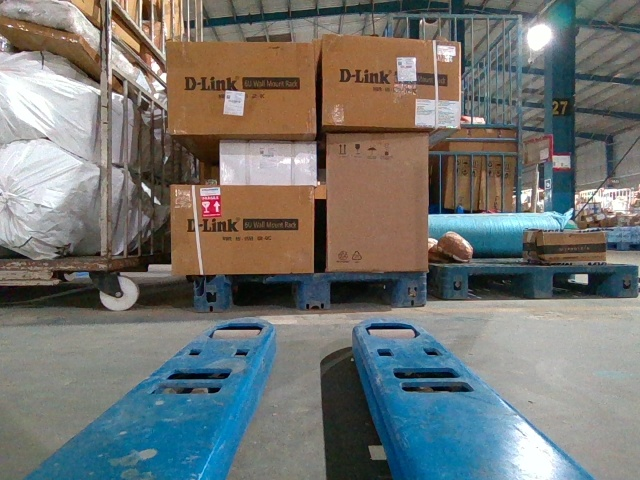block: (292, 272, 331, 313), (191, 272, 231, 310), (391, 272, 427, 309), (529, 265, 556, 300), (612, 264, 639, 297), (442, 268, 468, 297)
front: (191, 272, 425, 310), (444, 266, 638, 300)
hole pallet: (555, 271, 612, 300), (468, 276, 534, 297)
